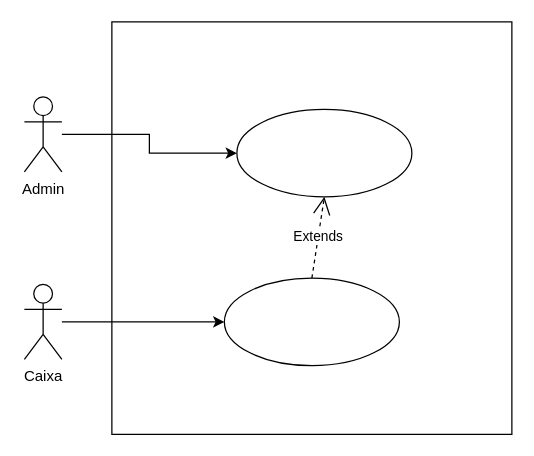
The diagram is 534 pixels wide and 456 high, and some of its shapes have lost their labels. Here are the shapes that lost their labels. From the top down, the centre of each, then its label:
At (324,152): "Gerenciamento de Usuario".
At (311,321): "Visualizar Usuarios".
